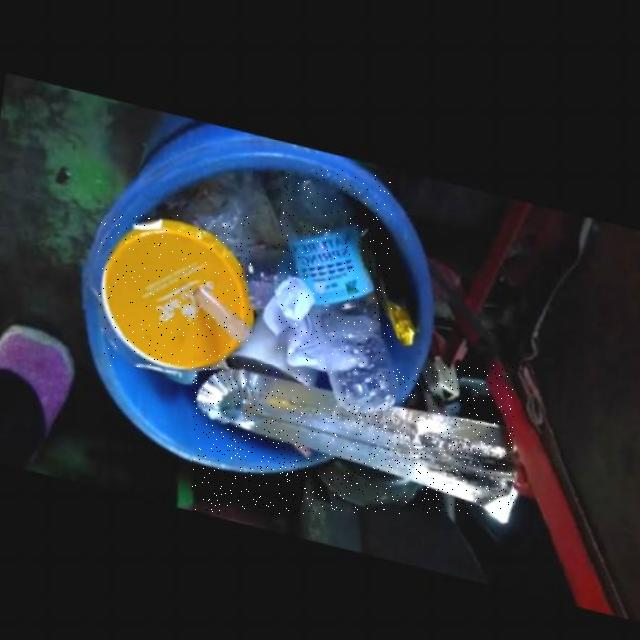metal: (192, 364, 514, 514)
plastic: (278, 171, 393, 408), (99, 215, 251, 367)
